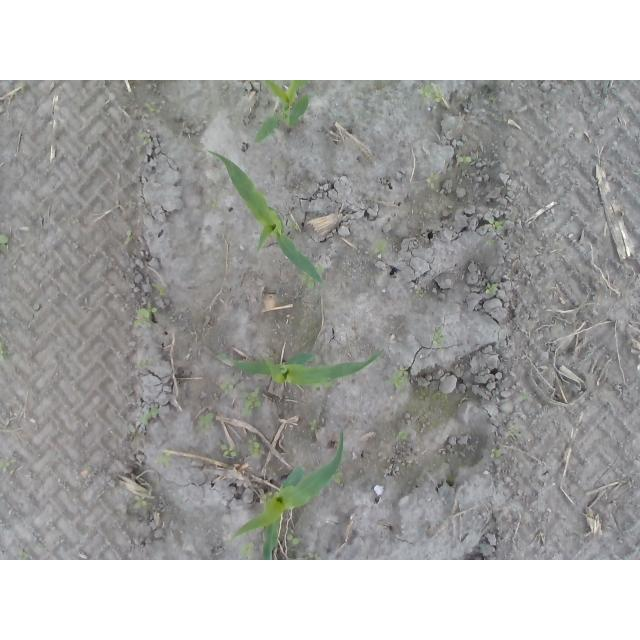Maize: (205, 148, 324, 289), (232, 432, 345, 559), (230, 347, 387, 385), (256, 81, 308, 144)
Weeds: (299, 267, 324, 290), (241, 388, 263, 413), (387, 368, 409, 392), (417, 84, 443, 104), (137, 410, 159, 430), (135, 309, 156, 329), (234, 544, 256, 561), (434, 327, 447, 350), (201, 415, 217, 432), (142, 104, 162, 117), (249, 440, 261, 461), (153, 285, 169, 300), (489, 216, 503, 233), (375, 240, 389, 257), (133, 494, 147, 510), (1, 458, 15, 474), (284, 534, 301, 546), (223, 381, 236, 395), (139, 133, 149, 151), (487, 282, 499, 296), (1, 343, 10, 361), (222, 445, 236, 456), (17, 549, 31, 560), (428, 174, 437, 191), (510, 430, 523, 441), (0, 236, 8, 253), (160, 451, 169, 466), (490, 450, 502, 459), (397, 432, 408, 441), (459, 157, 473, 164), (312, 422, 321, 431), (37, 541, 45, 548), (522, 394, 530, 400)
